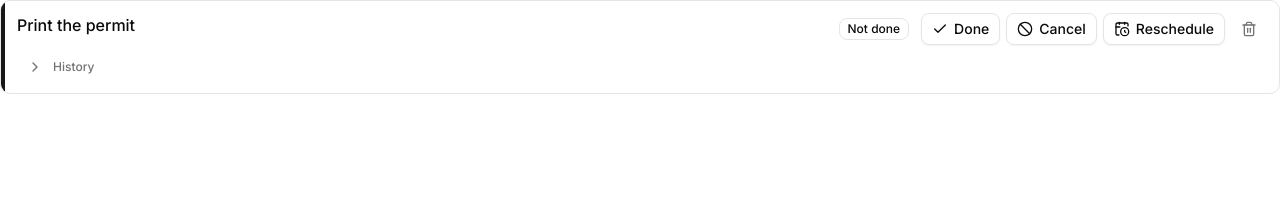
Test: the history disclosure › opens on click and renders the shared feed
Click the button with aria-label "Show history for “Print the permit”" at (61, 67), box [17, 53, 104, 81]
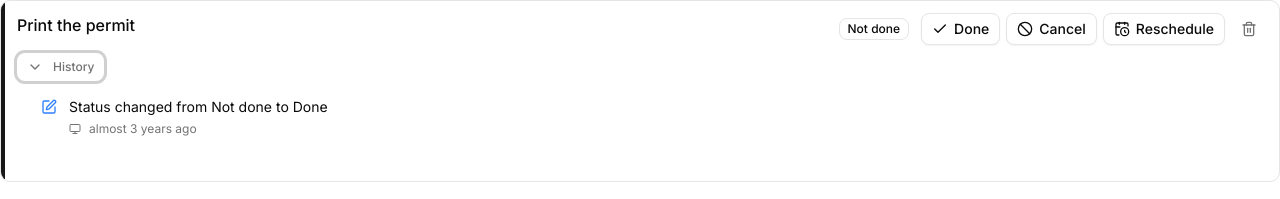
Expected: the button with aria-label "Hide history for “Print the permit”" is expanded, [17, 53, 104, 81]
Expected: the element with test id "activity-feed" is shown, [17, 89, 1267, 169]
Expected: the text "Status changed from Not done to Done" is shown, [69, 98, 328, 115]
